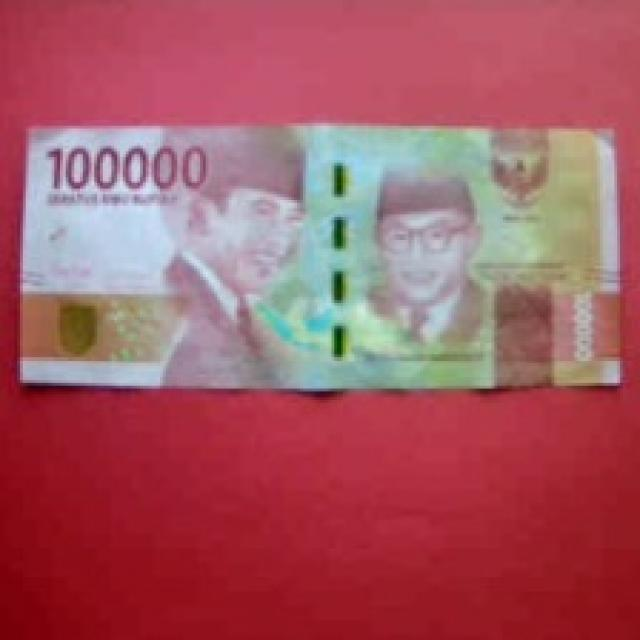lima puluh ribu rupiah: (15, 115, 640, 409)
